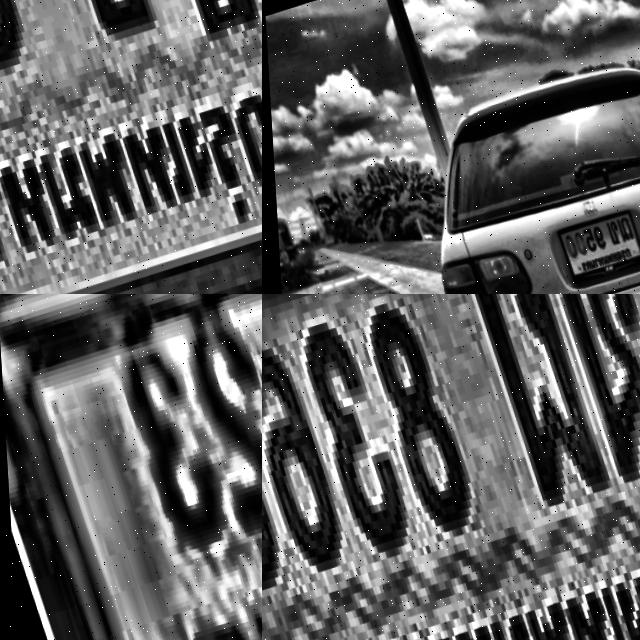license-plate: (262, 294, 640, 640), (0, 294, 262, 640), (0, 0, 262, 294), (549, 208, 640, 292)
